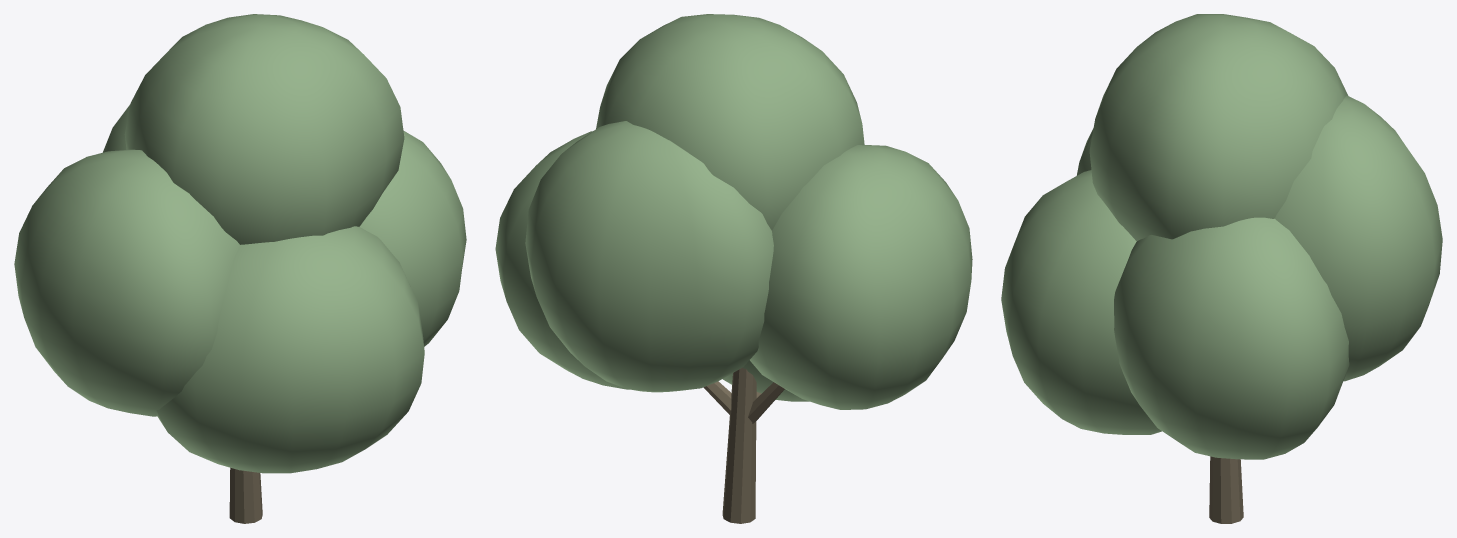
The model's file is SM_MPR_GHS_Tree.fbx.
The picture shows the model from 3 angles, left to right: view 1: azimuth 30°, elevation 25°; view 2: azimuth 150°, elevation 25°; view 3: azimuth 270°, elevation 25°; orthographic projection.
Visible parts, largest first — view 1: SM_MPR_GHS_Tree; view 2: SM_MPR_GHS_Tree; view 3: SM_MPR_GHS_Tree.
Part boxes in pixels (<box>): SM_MPR_GHS_Tree: <box>14,14,466,523</box>; SM_MPR_GHS_Tree: <box>495,14,972,523</box>; SM_MPR_GHS_Tree: <box>1001,14,1442,523</box>.
Bounding box in the file's own units: 1242 × 1096 × 1364.
